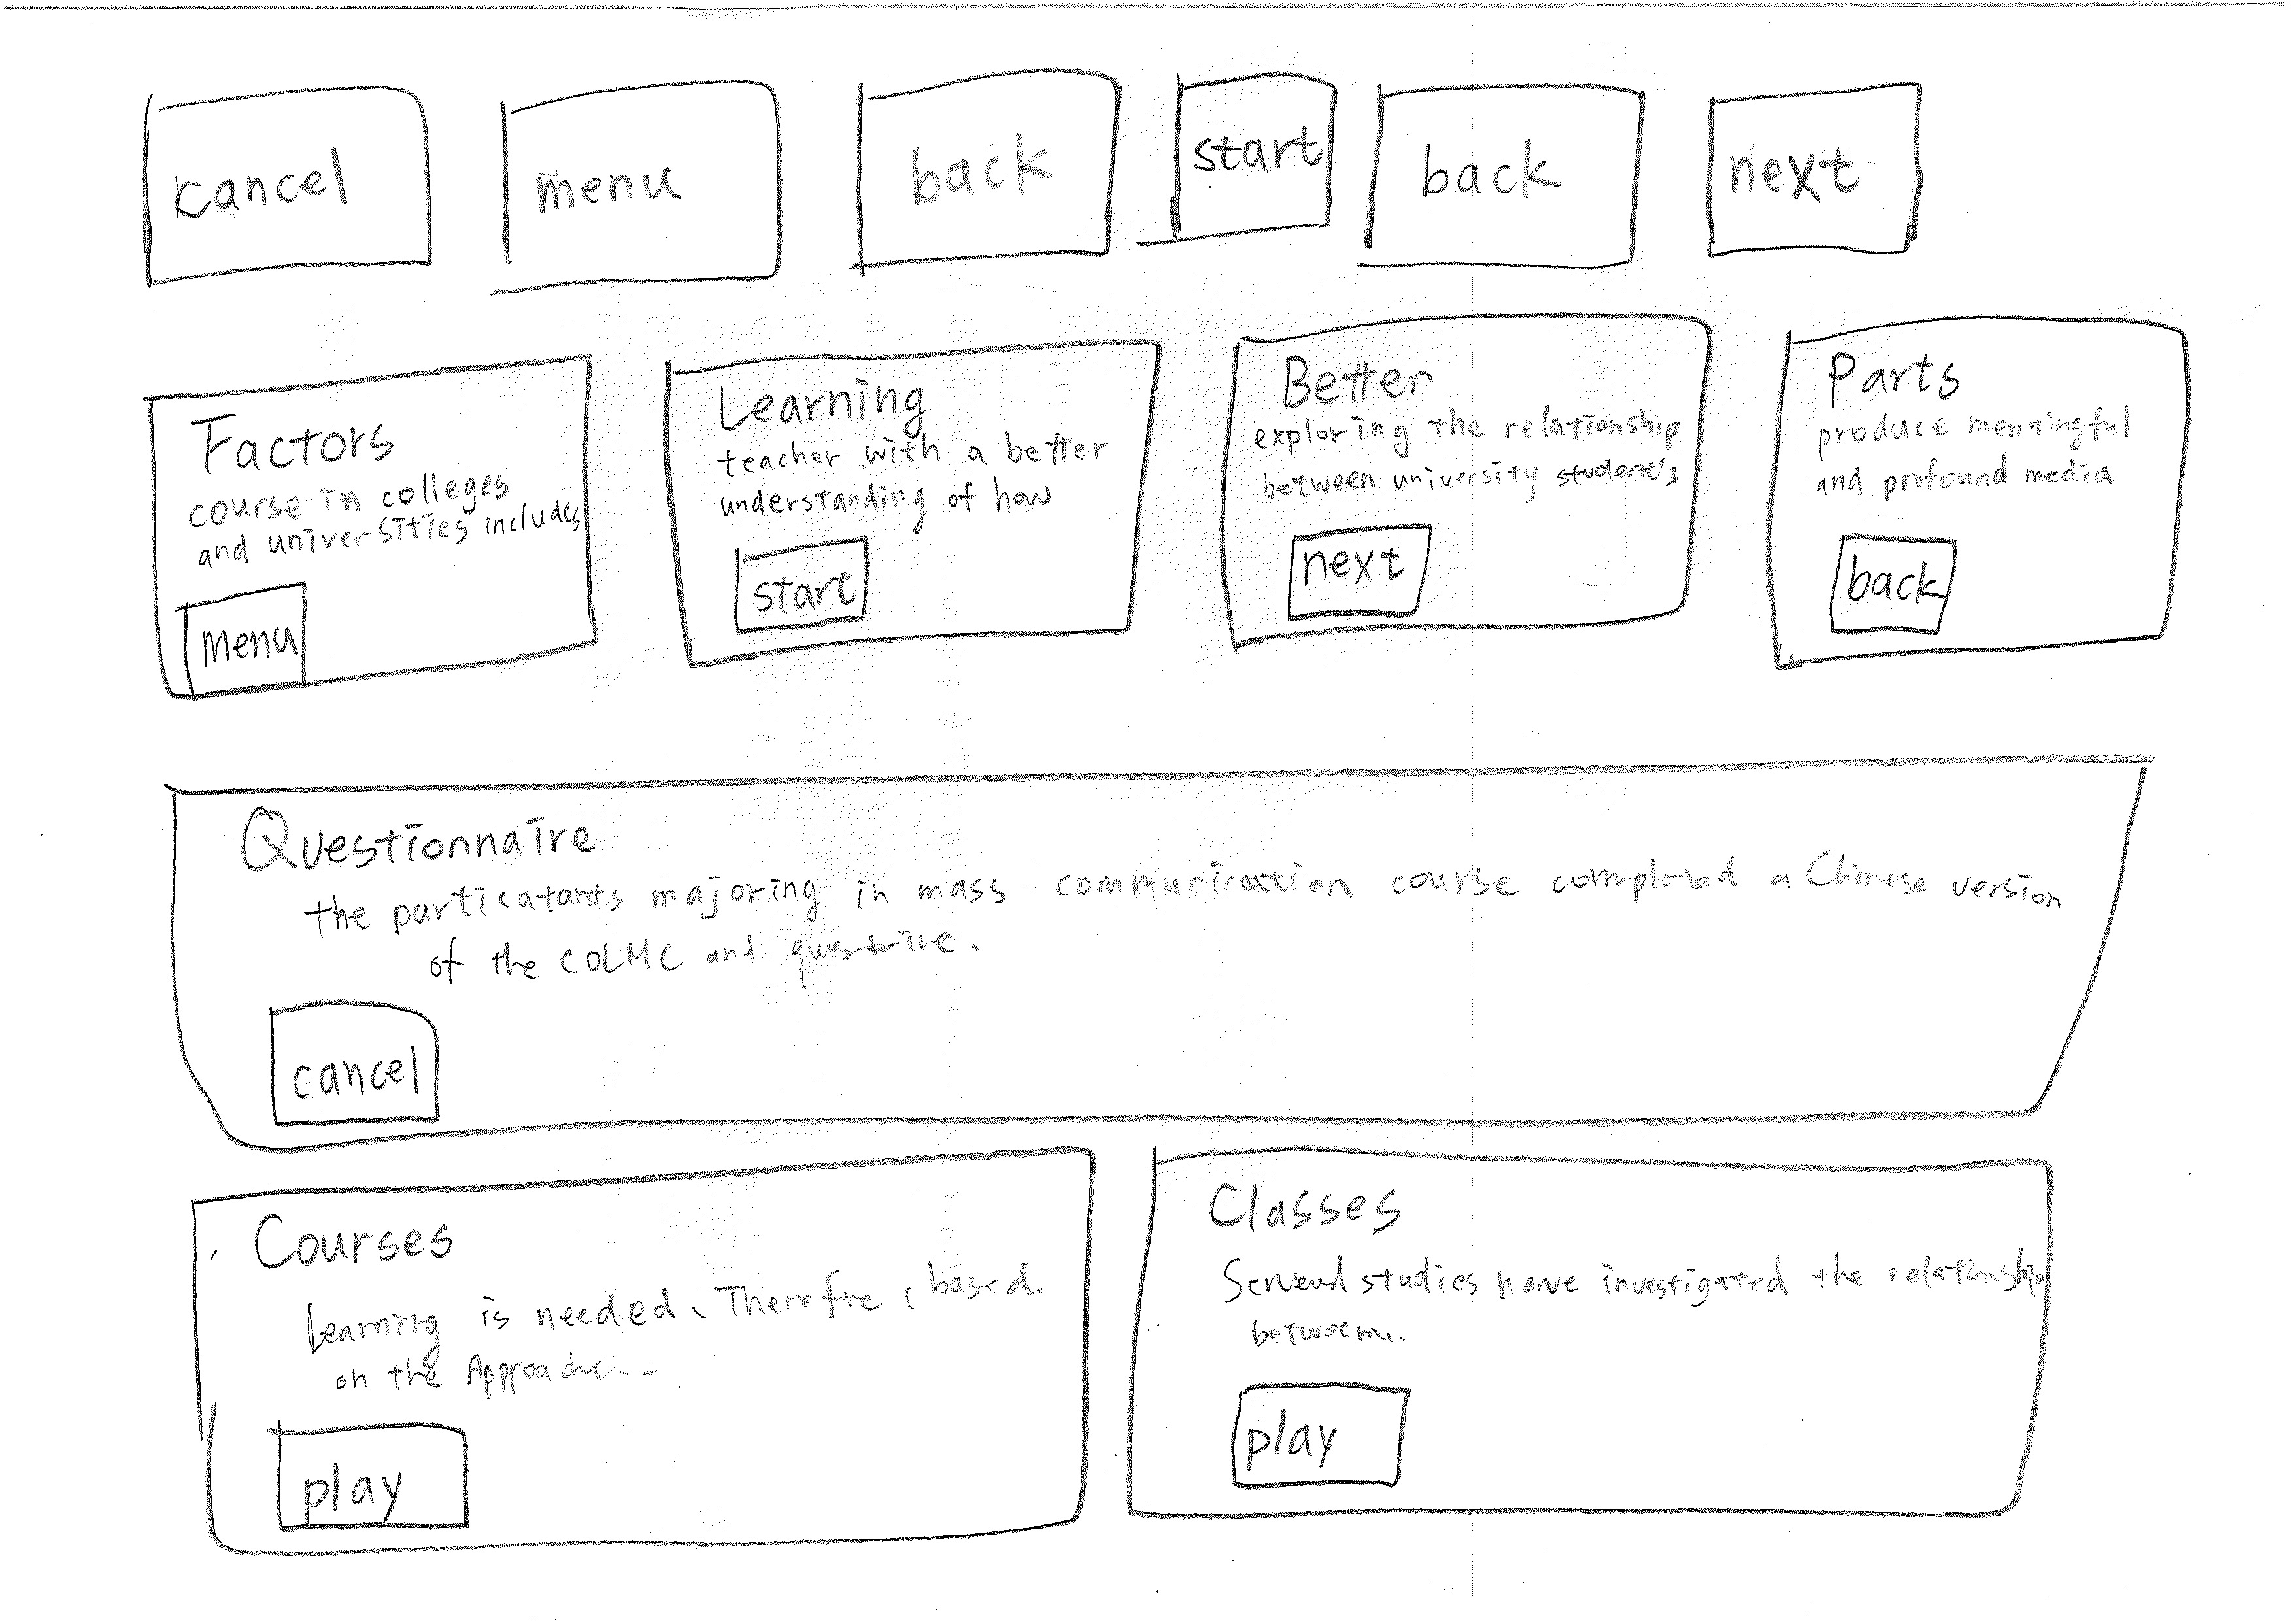back: (1340, 44, 1680, 302), (837, 49, 1144, 300), (1815, 514, 1970, 649)
cancel: (123, 68, 451, 303), (239, 986, 460, 1133)
double: (1093, 1130, 2096, 1602), (121, 1128, 1123, 1600)
menu: (484, 67, 802, 330), (160, 579, 326, 711)
next: (1684, 68, 1957, 281), (1270, 505, 1452, 639)
play: (233, 1402, 486, 1549), (1209, 1367, 1428, 1500)
quadruple: (640, 307, 1187, 739), (1184, 288, 1731, 719), (1736, 282, 2284, 714), (112, 307, 614, 740)
row: (75, 286, 2296, 735), (75, 737, 2296, 1186), (75, 1125, 2296, 1574), (61, 5, 2273, 296)
single: (140, 746, 2207, 1144)
small-title: (244, 811, 605, 861), (188, 405, 403, 477), (1203, 1168, 1407, 1240), (244, 1218, 486, 1267), (1256, 346, 1445, 403), (702, 382, 952, 423), (1819, 344, 1973, 407)
start: (1154, 63, 1352, 281), (712, 525, 898, 654)
text: (344, 851, 2089, 993), (1216, 1237, 2021, 1365), (293, 1254, 1044, 1388), (719, 419, 1105, 530), (1259, 409, 1665, 511), (182, 461, 551, 561), (1794, 407, 2140, 500)
